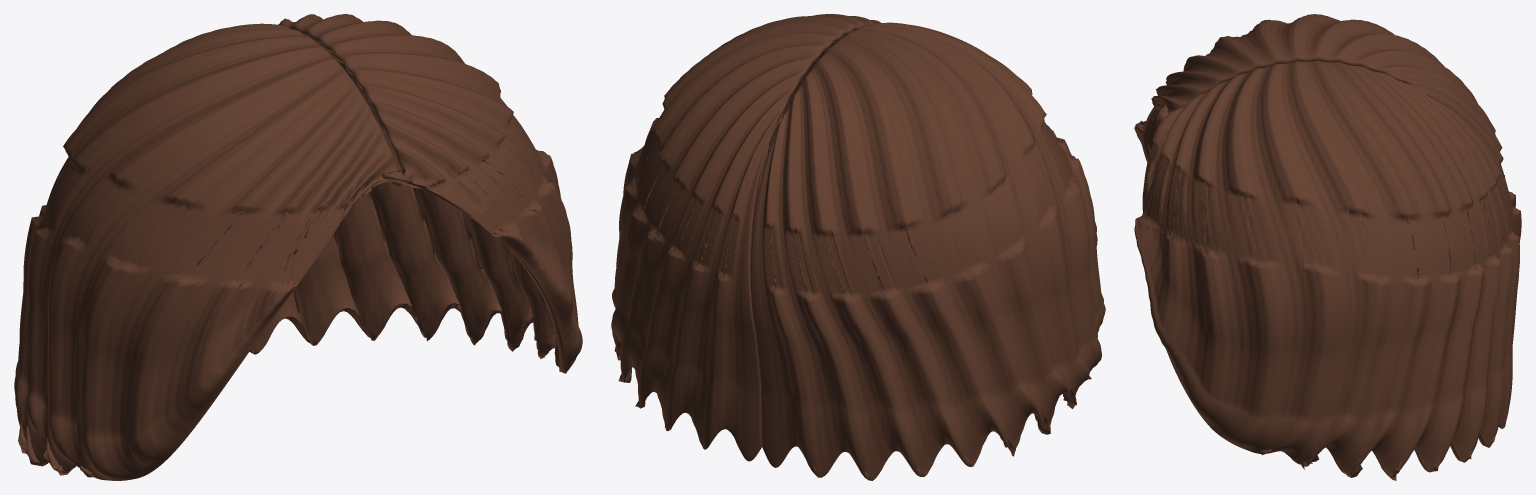
Rendered from Masculine-flow-headband252-hair.glb.
3 renders of one model, left to right at view 1: azimuth 30°, elevation 25°; view 2: azimuth 150°, elevation 25°; view 3: azimuth 270°, elevation 25°, orthographic. The views are drawn at different scales.
Parts seen in each view (by area): view 1: 226 hair / Hair252 / flowing sculpt flow.001; view 2: 226 hair / Hair252 / flowing sculpt flow.001; view 3: 226 hair / Hair252 / flowing sculpt flow.001.
Part boxes in pixels (<box>): 226 hair / Hair252 / flowing sculpt flow.001: <box>14,14,582,480</box>; 226 hair / Hair252 / flowing sculpt flow.001: <box>611,14,1105,480</box>; 226 hair / Hair252 / flowing sculpt flow.001: <box>1134,14,1521,480</box>.
Bounding box in the file's own units: 1.11 × 0.8603 × 0.8447.
